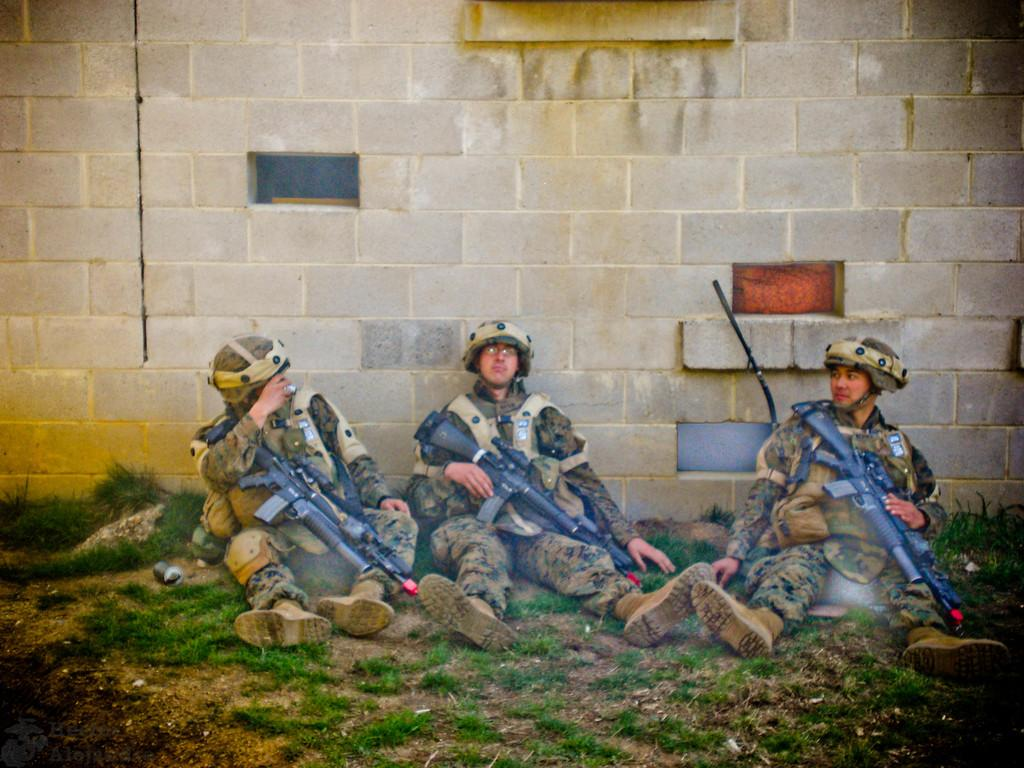non-violence: (404, 322, 722, 646), (692, 333, 949, 668), (188, 332, 414, 646)
weapon: (785, 396, 970, 636), (411, 405, 646, 589), (200, 406, 419, 597)
